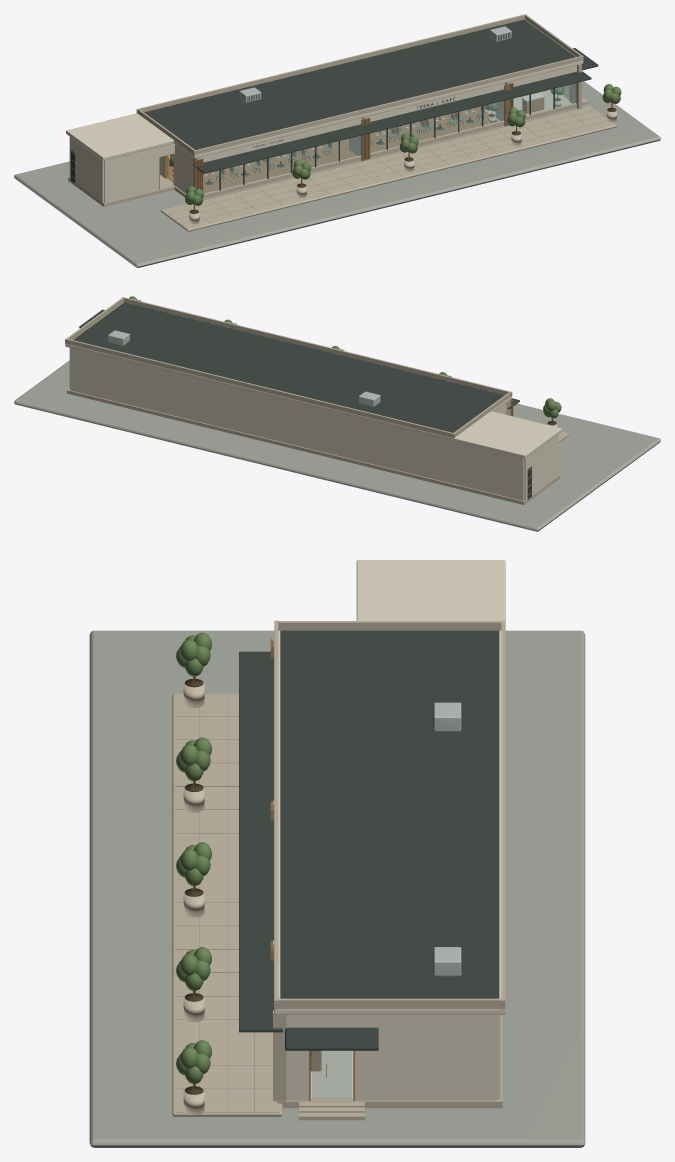
The model's file is terra-cafe.glb.
The picture shows the model from 3 angles, top to bottom: view 1: azimuth 30°, elevation 25°; view 2: azimuth 150°, elevation 25°; view 3: azimuth 270°, elevation 25°; orthographic projection. The views are drawn at different scales.
Parts seen in each view (by area): view 1: Site__Warm paving, Roof__Bronze black, Site__Sandstone, Facade__Smoked architectural glass, Facade__Bronze black, Walls__Warm mineral plaster, Roof__Sandstone, Roof__Warm mineral plaster, Floors__Honey oak, Facade__Warm mineral plaster, Facade__Sandstone, Site__Olive foliage (+7 smaller); view 2: Walls__Warm mineral plaster, Site__Warm paving, Roof__Bronze black, Roof__Sandstone, Roof__Warm mineral plaster, Floors__Sandstone, Roof__Brushed stainless steel, Site__Olive foliage; view 3: Site__Warm paving, Roof__Bronze black, Site__Sandstone, Facade__Bronze black, Walls__Warm mineral plaster, Roof__Warm mineral plaster, Roof__Sandstone, Site__Olive foliage, Facade__Sandstone, Floors__Warm mineral plaster, Facade__Smoked architectural glass, Floors__Sandstone (+1 smaller).
Part boxes in pixels (x1,y1,x2,y2): Site__Warm paving: (14, 81, 660, 267); Roof__Bronze black: (144, 19, 575, 149); Site__Sandstone: (161, 105, 616, 231); Facade__Smoked architectural glass: (203, 83, 575, 193); Facade__Bronze black: (193, 48, 598, 190); Walls__Warm mineral plaster: (69, 83, 575, 202); Roof__Sandstone: (136, 14, 583, 155); Roof__Warm mineral plaster: (66, 19, 583, 160); Floors__Honey oak: (167, 107, 498, 193); Facade__Warm mineral plaster: (200, 65, 576, 162); Facade__Sandstone: (193, 64, 588, 198); Site__Olive foliage: (185, 84, 621, 205); Walls__Warm mineral plaster: (69, 348, 558, 500); Site__Warm paving: (14, 360, 660, 531); Roof__Bronze black: (73, 302, 504, 432); Roof__Sandstone: (65, 297, 512, 438); Roof__Warm mineral plaster: (65, 302, 561, 458); Floors__Sandstone: (67, 388, 559, 504); Roof__Brushed stainless steel: (108, 330, 380, 406); Site__Olive foliage: (129, 296, 561, 418); Site__Warm paving: (89, 630, 585, 1147); Roof__Bronze black: (280, 630, 499, 998); Site__Sandstone: (172, 681, 282, 1116); Facade__Bronze black: (239, 651, 378, 1050); Walls__Warm mineral plaster: (286, 1015, 500, 1100); Roof__Warm mineral plaster: (274, 560, 505, 1014); Roof__Sandstone: (274, 620, 505, 1009); Site__Olive foliage: (176, 632, 211, 1084); Facade__Sandstone: (273, 637, 364, 1120); Floors__Warm mineral plaster: (310, 1050, 353, 1099); Facade__Smoked architectural glass: (312, 1051, 351, 1098); Floors__Sandstone: (277, 1015, 502, 1108).
Bounding box in the file's own units: 44 × 5.03 × 18.
